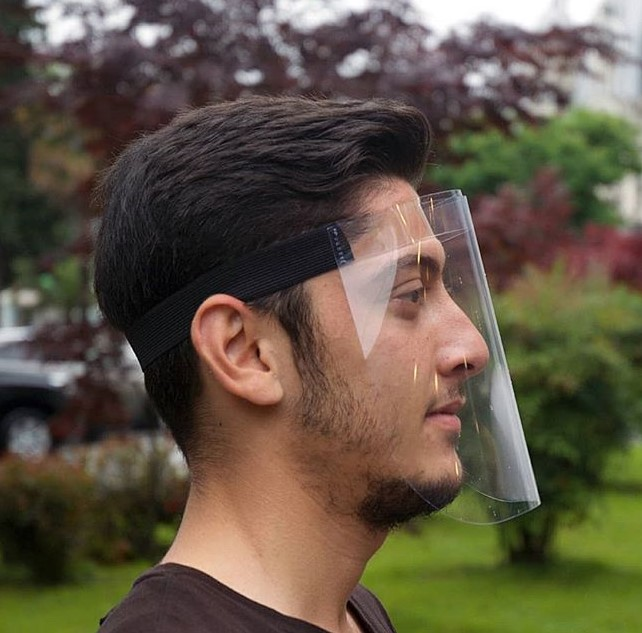face_with_mask: (143, 141, 476, 526)
